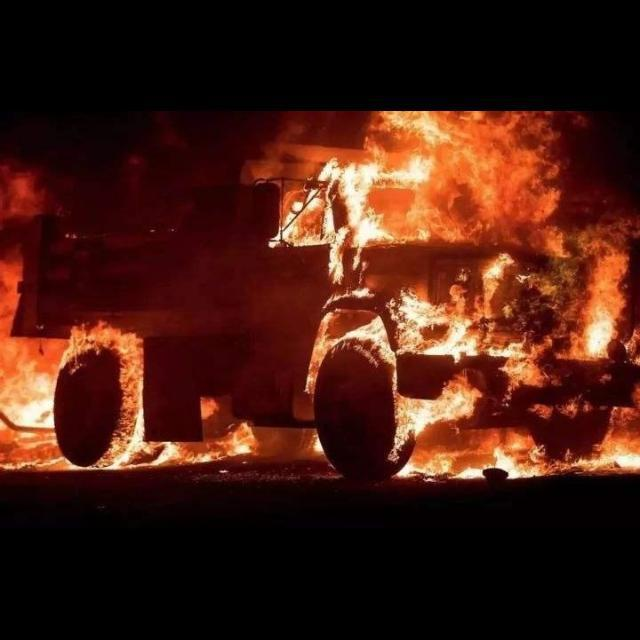Fire: (268, 112, 640, 484), (1, 261, 259, 473)
